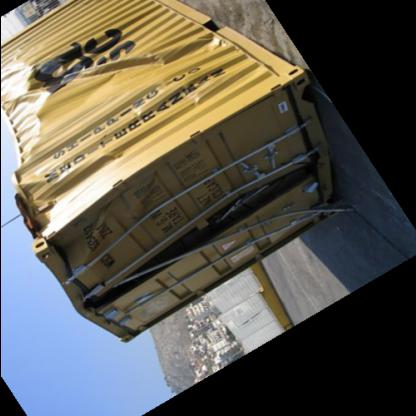Damage: (98, 166, 308, 288), (3, 48, 166, 122)
